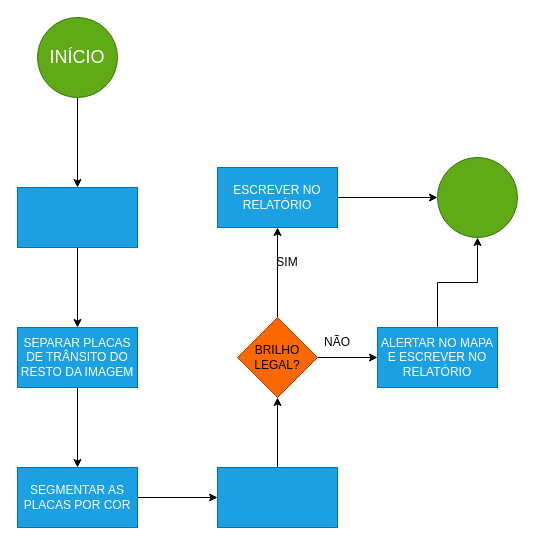
Image size: 535x545. Some labels were removed from this diagram. Each missing label, with the centre of its shape:
"FIM" goes at pixel 477 197.
"OBTER IMAGEM" goes at pixel 77 217.
"OBTER VALORES DE BRILHO PARA CADA COR" goes at pixel 277 497.
